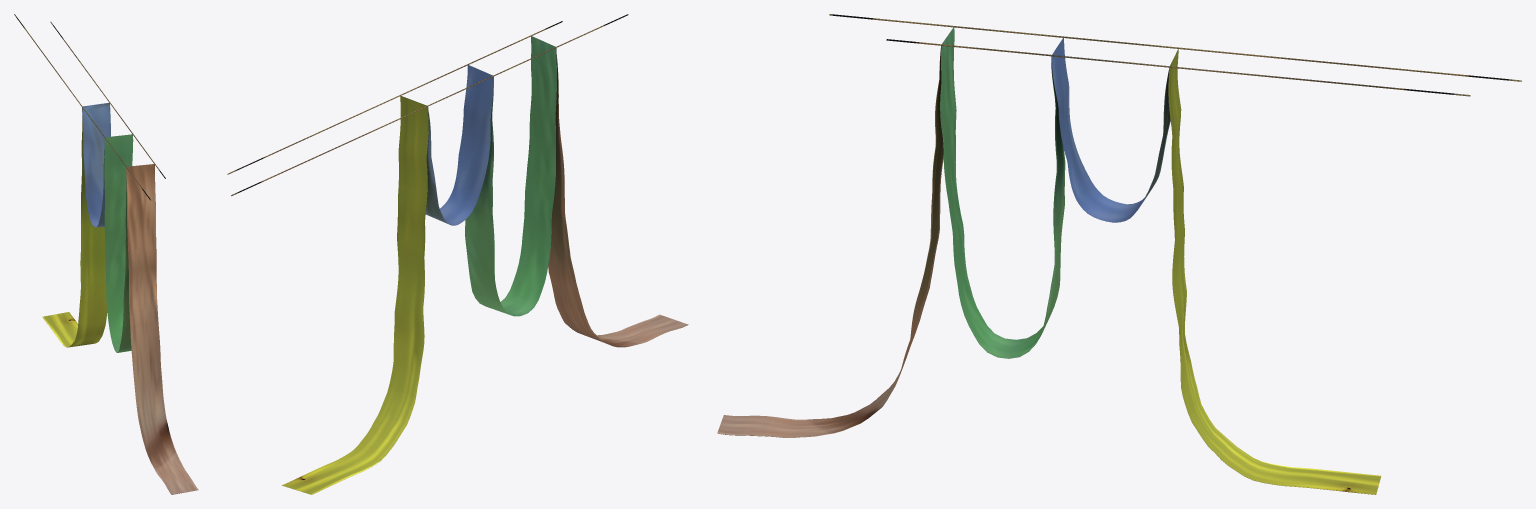
The model's file is HangingSilk.glb.
3 renders of one model, left to right at view 1: azimuth 30°, elevation 25°; view 2: azimuth 150°, elevation 25°; view 3: azimuth 270°, elevation 25°, orthographic. The views are drawn at different scales.
Visible parts, largest first — view 1: Silk Hanging_PROCESSED.001_LOD0; view 2: Silk Hanging_PROCESSED.001_LOD0; view 3: Silk Hanging_PROCESSED.001_LOD0.
Part boxes in pixels (x1,y1,x2,y2): Silk Hanging_PROCESSED.001_LOD0: [14, 14, 198, 494]; Silk Hanging_PROCESSED.001_LOD0: [227, 14, 688, 494]; Silk Hanging_PROCESSED.001_LOD0: [717, 14, 1521, 494].
Bounding box in the file's own units: 5.2 × 10.9 × 19.33.
Materials: 1 (1 with a texture image).
